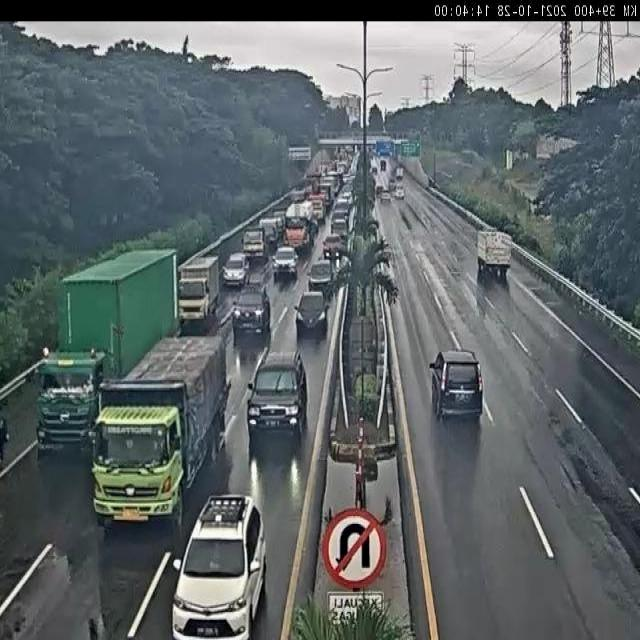Car: (171, 517, 261, 638), (243, 350, 308, 440), (438, 362, 485, 422), (231, 286, 271, 342), (177, 272, 215, 330), (283, 212, 312, 254), (308, 260, 334, 295), (271, 247, 298, 280), (242, 228, 265, 258), (331, 219, 350, 251), (258, 217, 276, 246), (228, 252, 248, 277)
